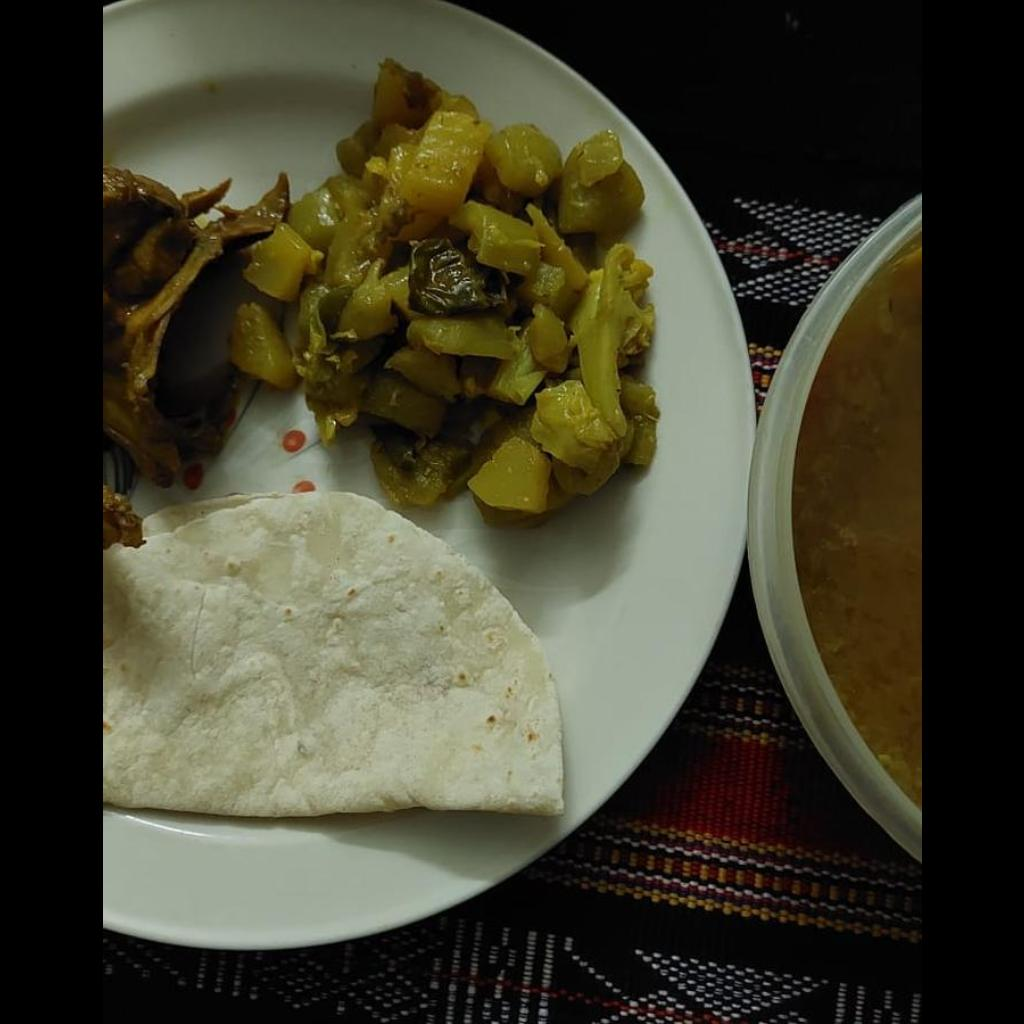daal: (791, 233, 920, 805)
ruti: (102, 488, 571, 812)
vegetable: (224, 51, 667, 514)
